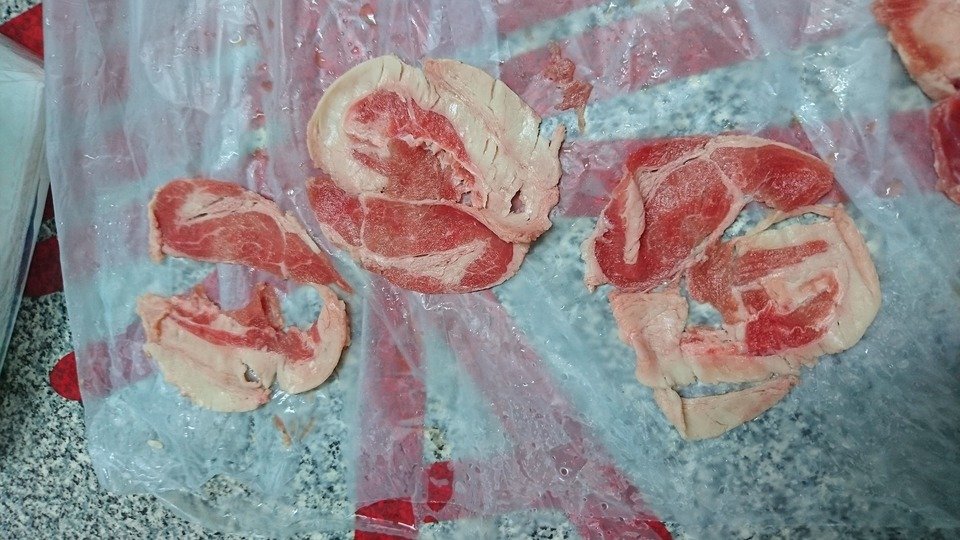restructured meat: (590, 122, 891, 446), (305, 41, 565, 302), (136, 175, 354, 414)
